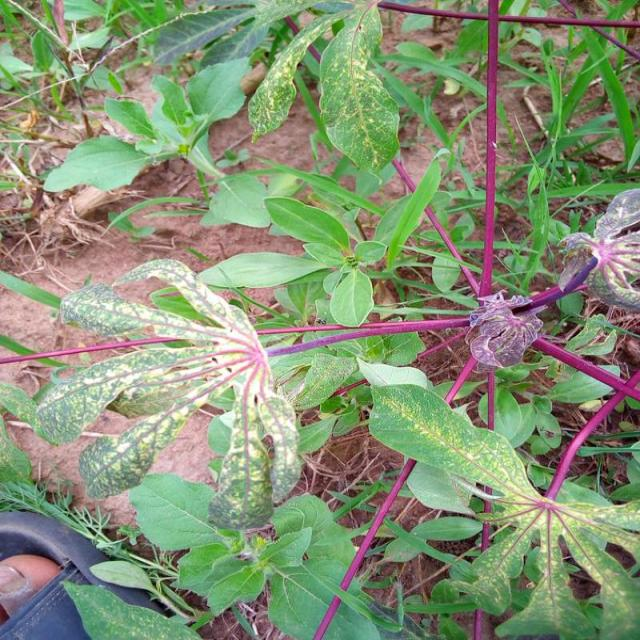cassava leaf: (32, 256, 304, 529), (367, 381, 536, 517), (317, 1, 400, 174)
